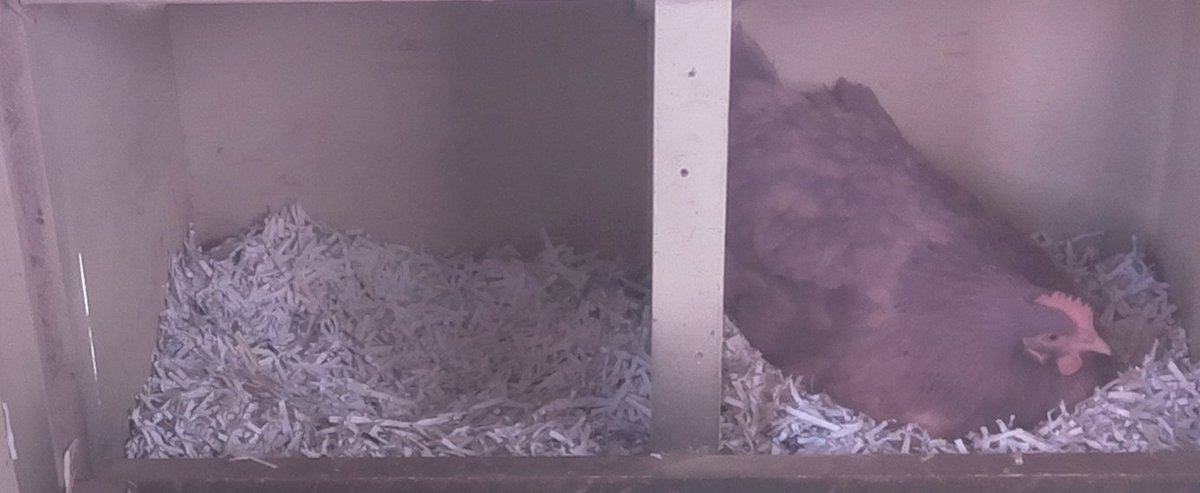hen: (730, 38, 1122, 443)
